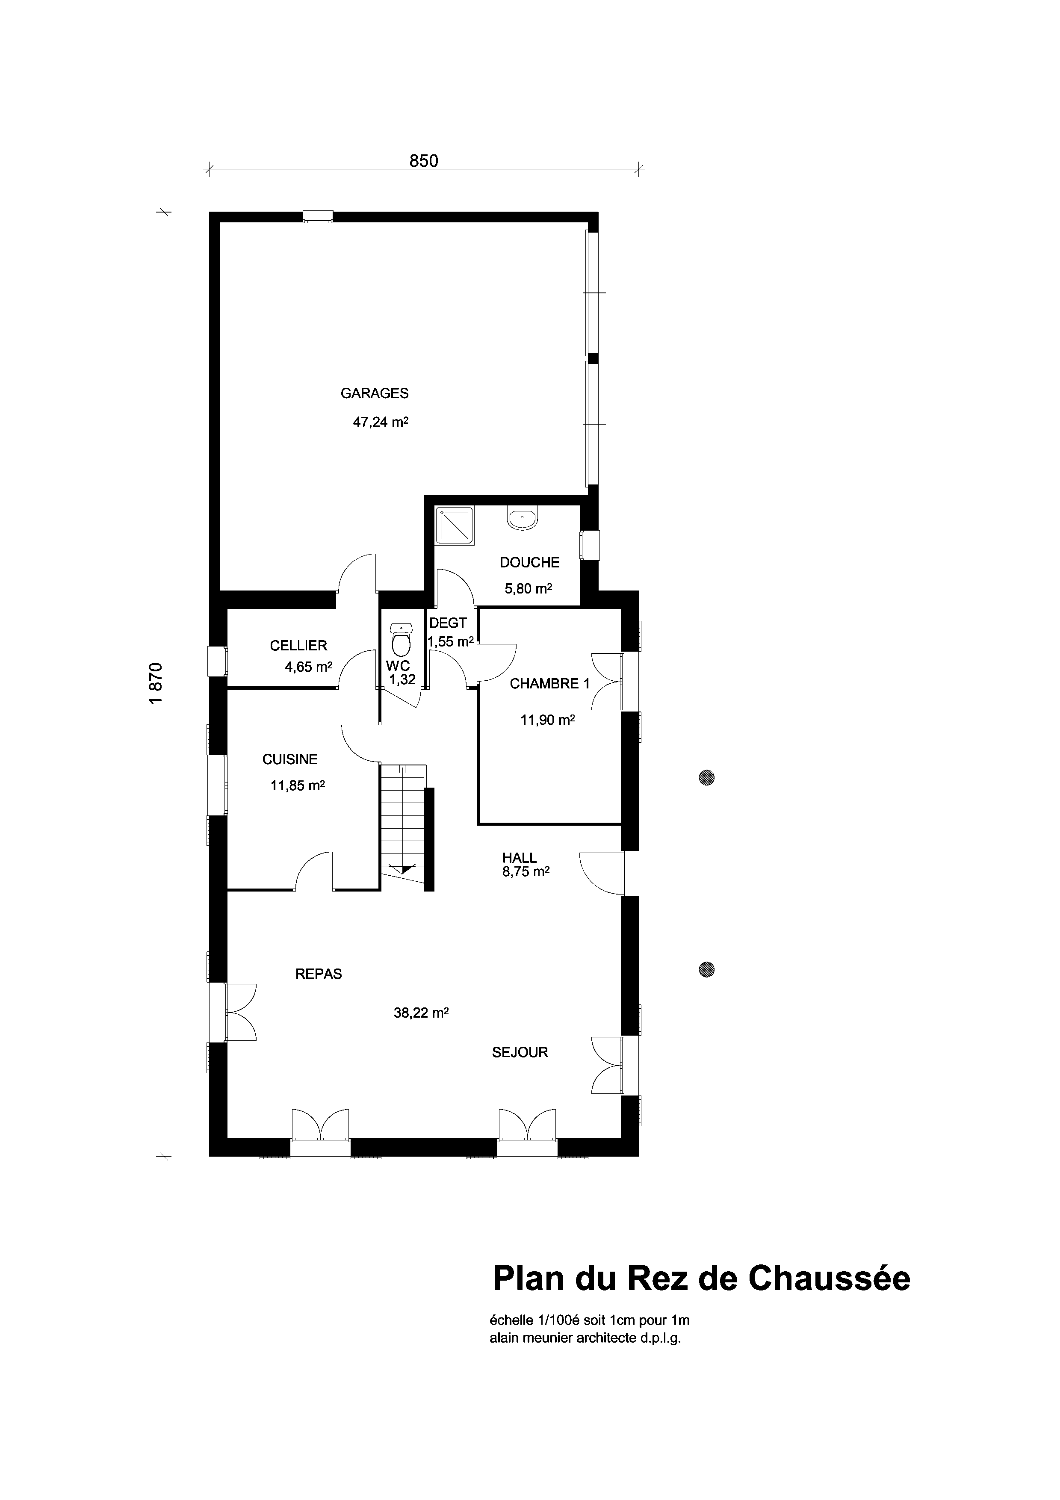ceramic sink: (507, 505, 538, 532)
door: (576, 847, 641, 900), (591, 649, 642, 716), (336, 649, 380, 692), (335, 554, 379, 596), (293, 851, 336, 892), (435, 568, 477, 609), (427, 649, 469, 690), (477, 641, 517, 683), (381, 686, 424, 709)
square bath tab: (434, 503, 476, 547)
toilet: (390, 622, 413, 657)
window: (206, 981, 258, 1045), (591, 1033, 642, 1097), (290, 1108, 351, 1159), (496, 1108, 558, 1158), (206, 753, 229, 817), (206, 644, 229, 678), (579, 530, 600, 561)
